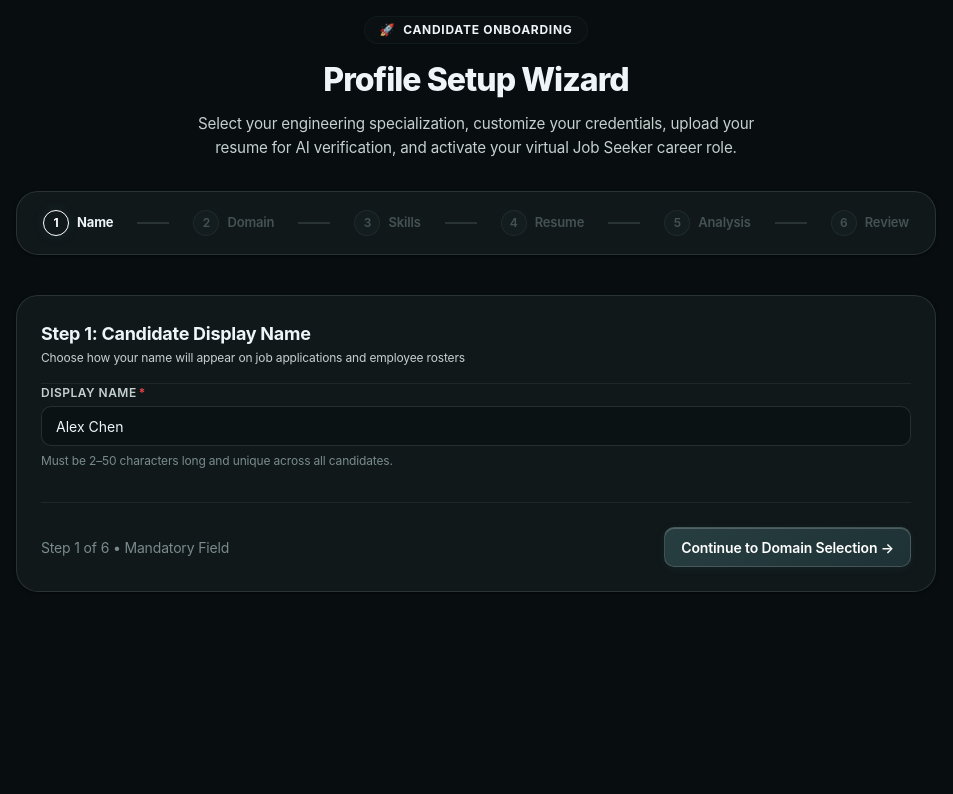
Test: ProfileSetupPage Wizard Suite › selects domain and progresses to Step 3 (Technical Skills)
Replace the text in the field labelled "Display Name*" with "Elena Rostova": (476, 426) 41,406 -> 911,446
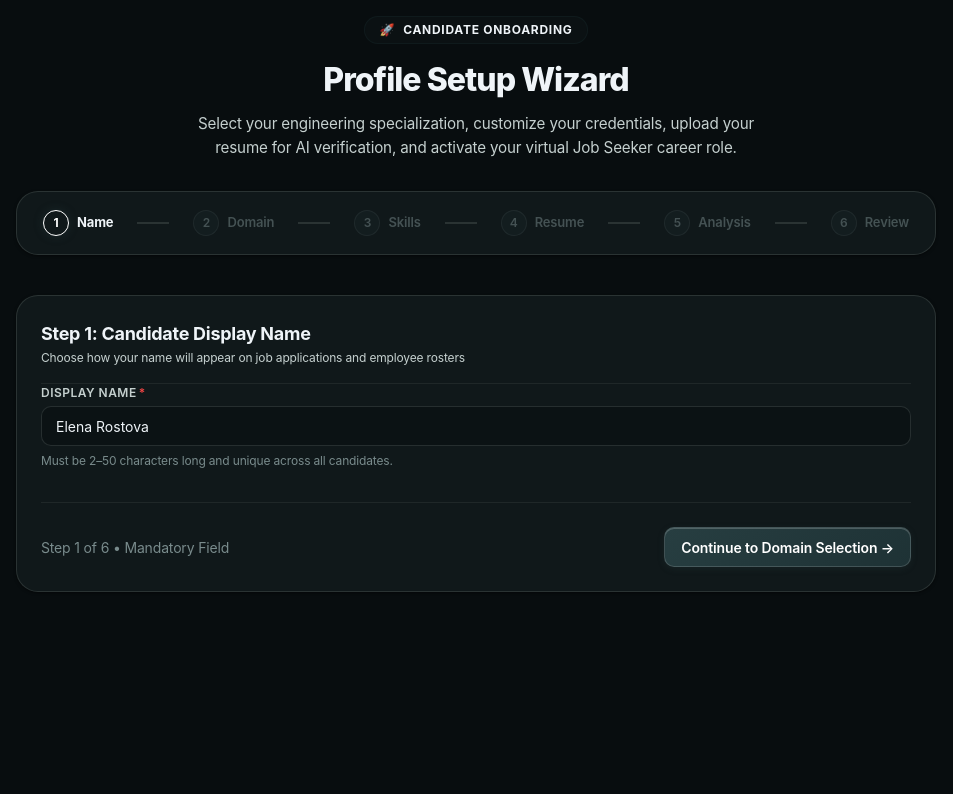
Click the button "Continue to Domain Selection →": (788, 547) 664,527 -> 911,567
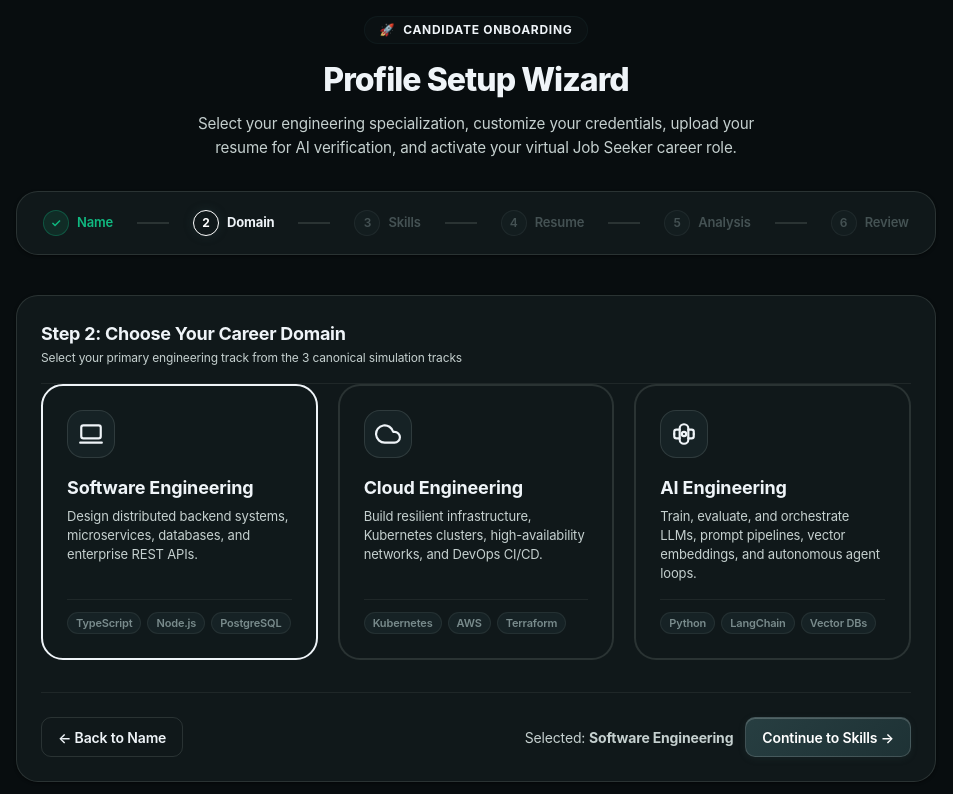
Result: the heading "Cloud Engineering" is shown at 364,477 -> 523,498
Note: Select Cloud Engineering
Click the button "Cloud Engineering": (476, 522) 338,384 -> 614,660
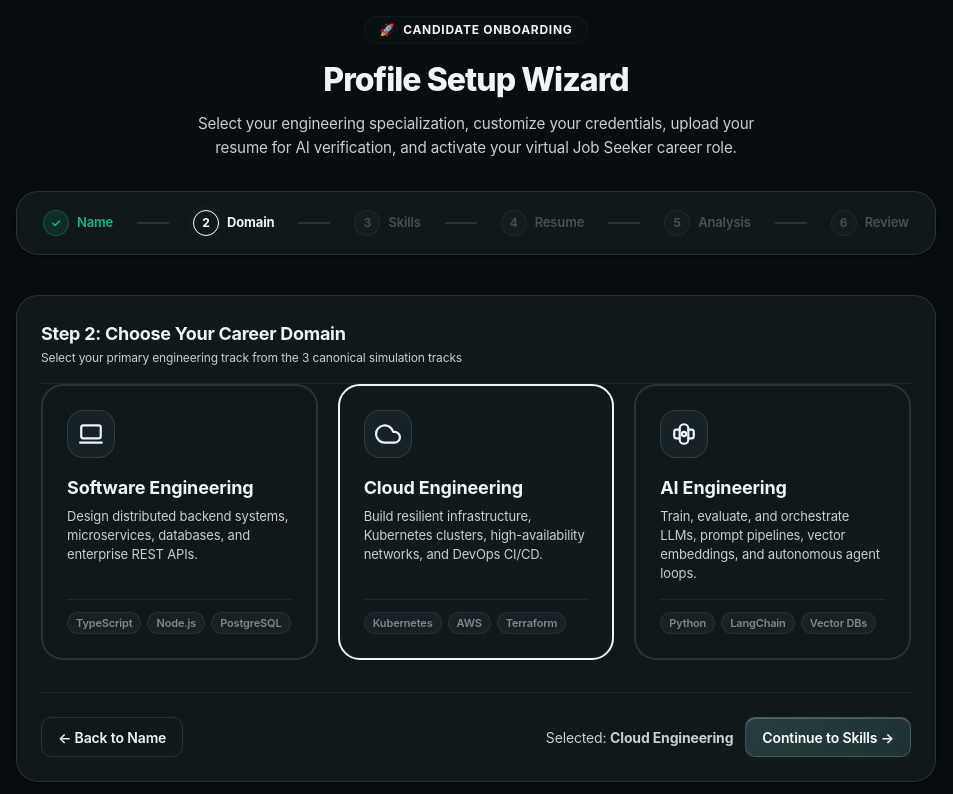
Note: Click Continue to Skills
Click the button "Continue to Skills →": (828, 737) 745,717 -> 911,757
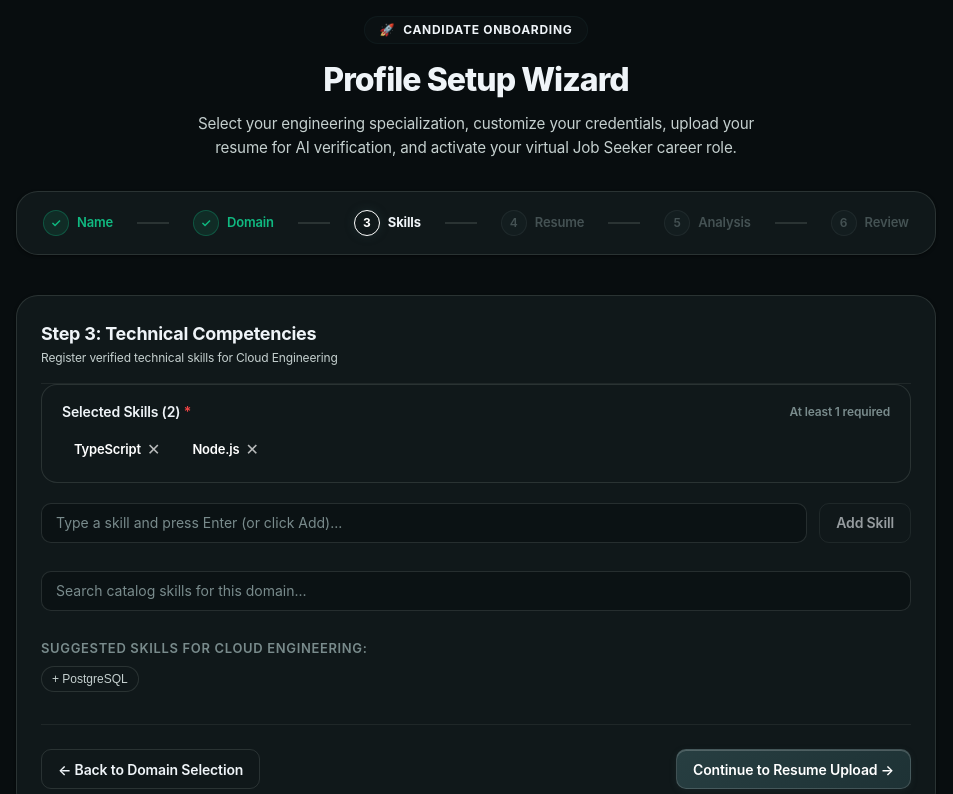
Result: the heading "Step 3: Technical Competencies" is shown at 41,320 -> 338,347
